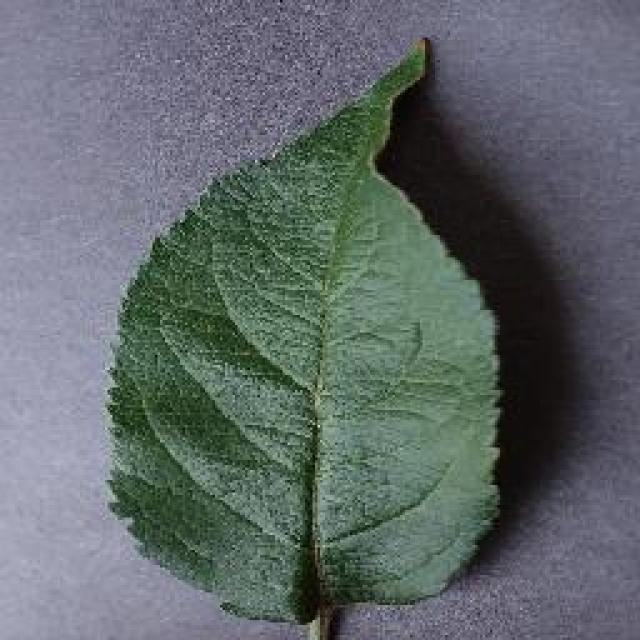apple healthy: (102, 32, 508, 638)
